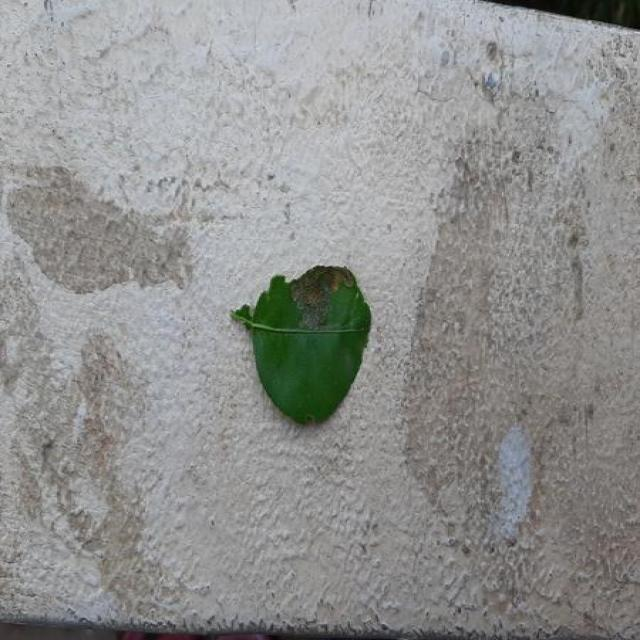bacterial blast: (235, 265, 372, 329)
lemon: (232, 265, 372, 423)
